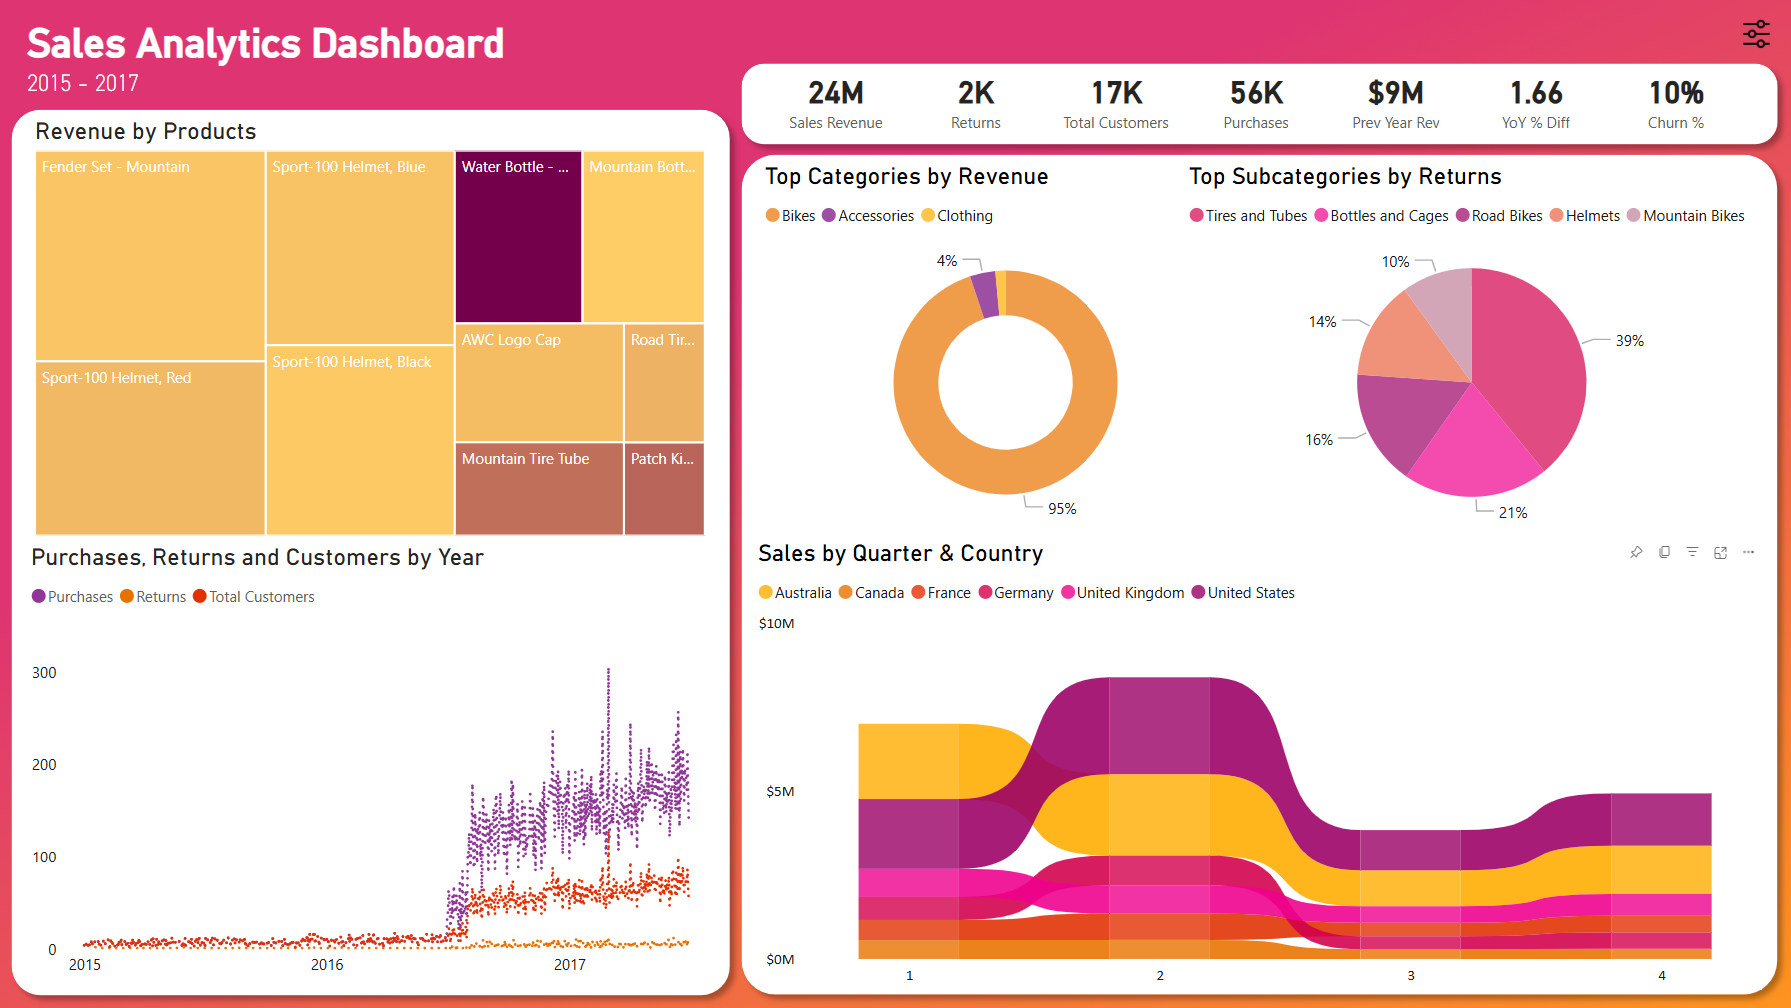

What the dashboard file says about the page in this screenshot:
{"tool":"powerbi","page":{"name":"Sales","canvas":[1280,720],"ordinal":0},"visuals":[{"type":"shape","title":"Pg 1 Container 3","box":[521.8,36.4,758.2,75.6],"z":0},{"type":"cardVisual","title":"KPI 4","fields":{"Data":["Fact_Sales.Sales Revenue","Dim_Calendar_Returns.Returns","Dim_Calendar_Returns.Total Customers","Fact_Sales.Purchases","Dim_Products.Prev Year Rev","Dim_Products.YoY % Diff","Dim_Customers.Churn %"]},"box":[542.8,36.4,716.1,65.1],"z":500},{"type":"shape","title":"Pg 1 Container 2","box":[521.8,101.5,758.2,618.5],"z":1000},{"type":"shape","title":"Pg 1 Container 1","box":[0,68.9,531.3,651],"z":2000},{"type":"donutChart","title":"Top Categories by Revenue","fields":{"Category":["Dim_Products.categoryname"],"Y":["Fact_Sales.Sales Revenue"]},"box":[541.9,115.8,354.2,269],"z":3000},{"type":"pieChart","title":"Top Subcategories by Returns","fields":{"Y":["Fact_Sales.Returns"],"Category":["Dim_Products.subcategoryname"]},"box":[845.4,115.8,413.6,269],"z":4000},{"type":"ribbonChart","title":"Sales by Quarter & Country","fields":{"Category":["Dim_Calendar_Sales.Quarter"],"Series":["Dim_Territories.Country"],"Y":["Fact_Sales.Sales Revenue"]},"box":[541.9,384.9,717.1,321.7],"z":5000},{"type":"textbox","title":"Dashboard Title ","box":[15.3,0,506.4,74.7],"z":6000},{"type":"lineChart","title":"Purchases, Returns and Customers by Year","fields":{"Category":["Fact_Sales.TransactionDate"],"Y":["Fact_Sales.Purchases","Fact_Sales.Returns","Dim_Calendar_Returns.Total Customers"]},"box":[18.2,387.7,492.1,318.8],"z":7000},{"type":"image","title":"Filter Button","box":[1238,6,35,36],"z":8000},{"type":"actionButton","title":"Slicer Button Frame","box":[1237.8,4.4,35.6,37.8],"z":9000},{"type":"treemap","title":"Revenue by Products","fields":{"Group":["Dim_Products.productname"],"Values":["Fact_Sales.Sales Revenue"]},"box":[21.1,83.3,489.2,304.4],"z":11000}]}

Visuals, with their boxes in screenshot pixels (x1, y1, x2, y2), scaled from the page's 1280x720 canvas onto the 1791x1008 screenshot:
"Pg 1 Container 3" shape: crop(730, 51, 1790, 157)
"KPI 4" cardVisual: crop(759, 51, 1761, 142)
"Pg 1 Container 2" shape: crop(730, 142, 1790, 1007)
"Pg 1 Container 1" shape: crop(0, 96, 743, 1007)
"Top Categories by Revenue" donutChart: crop(758, 162, 1254, 539)
"Top Subcategories by Returns" pieChart: crop(1183, 162, 1762, 539)
"Sales by Quarter & Country" ribbonChart: crop(758, 539, 1762, 989)
"Dashboard Title " textbox: crop(21, 0, 730, 105)
"Purchases, Returns and Customers by Year" lineChart: crop(25, 543, 714, 989)
"Filter Button" image: crop(1732, 8, 1781, 59)
"Slicer Button Frame" actionButton: crop(1732, 6, 1782, 59)
"Revenue by Products" treemap: crop(30, 117, 714, 543)
